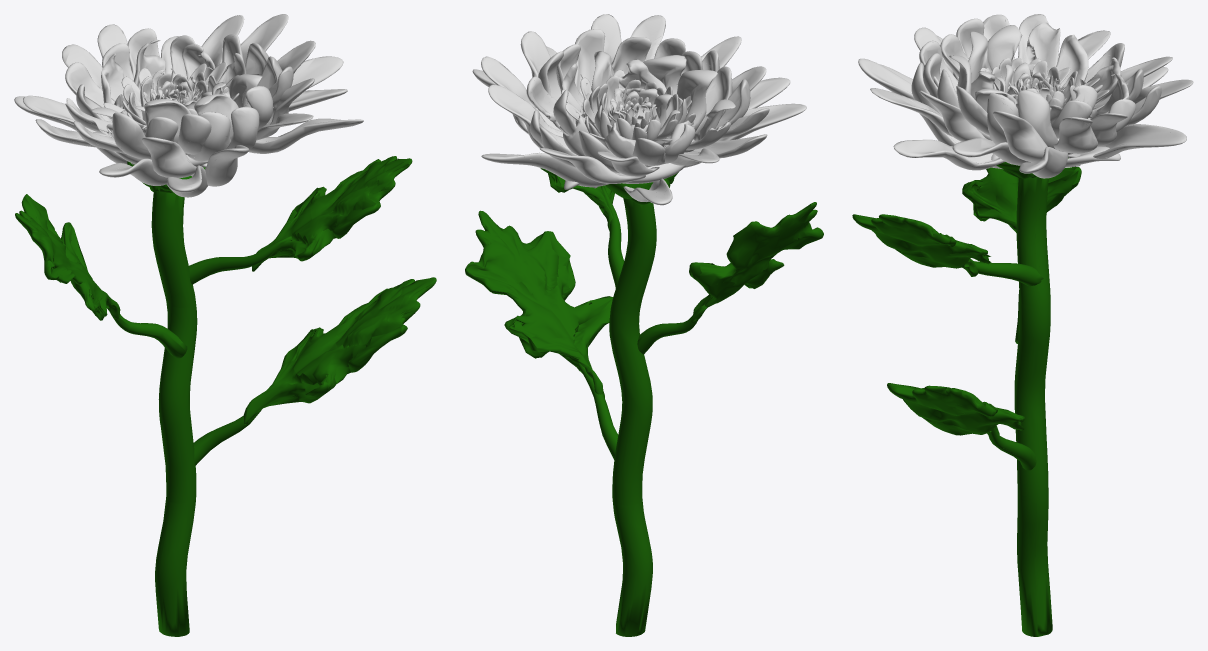
The model's file is kasimpati-beyaz.glb.
The picture shows the model from 3 angles, left to right: view 1: azimuth 30°, elevation 25°; view 2: azimuth 150°, elevation 25°; view 3: azimuth 270°, elevation 25°; orthographic projection. The views are drawn at different scales.
Parts seen in each view (by area): view 1: Object_20, Object_5; view 2: Object_5, Object_20; view 3: Object_5, Object_20.
Part boxes in pixels (box(x1,y1,x2,y2)): Object_20: box(15, 156, 436, 636); Object_5: box(14, 14, 363, 197); Object_5: box(472, 14, 806, 205); Object_20: box(465, 168, 823, 636); Object_5: box(858, 14, 1193, 178); Object_20: box(852, 158, 1081, 636).
Bounding box in the file's own units: 9.17 × 13.09 × 6.98.
